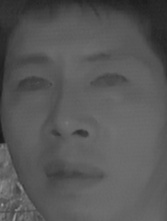eye: (90, 68, 129, 94), (14, 75, 53, 95)
mouth: (40, 154, 108, 194)
